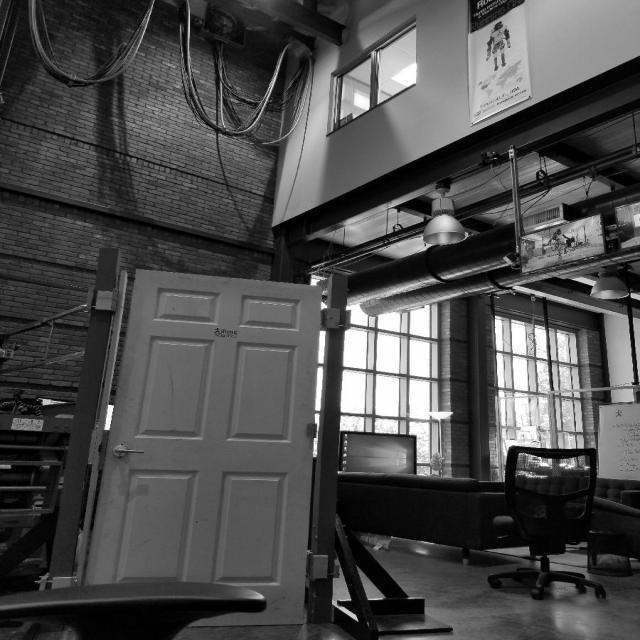door: (66, 266, 330, 628), (112, 442, 144, 458)
